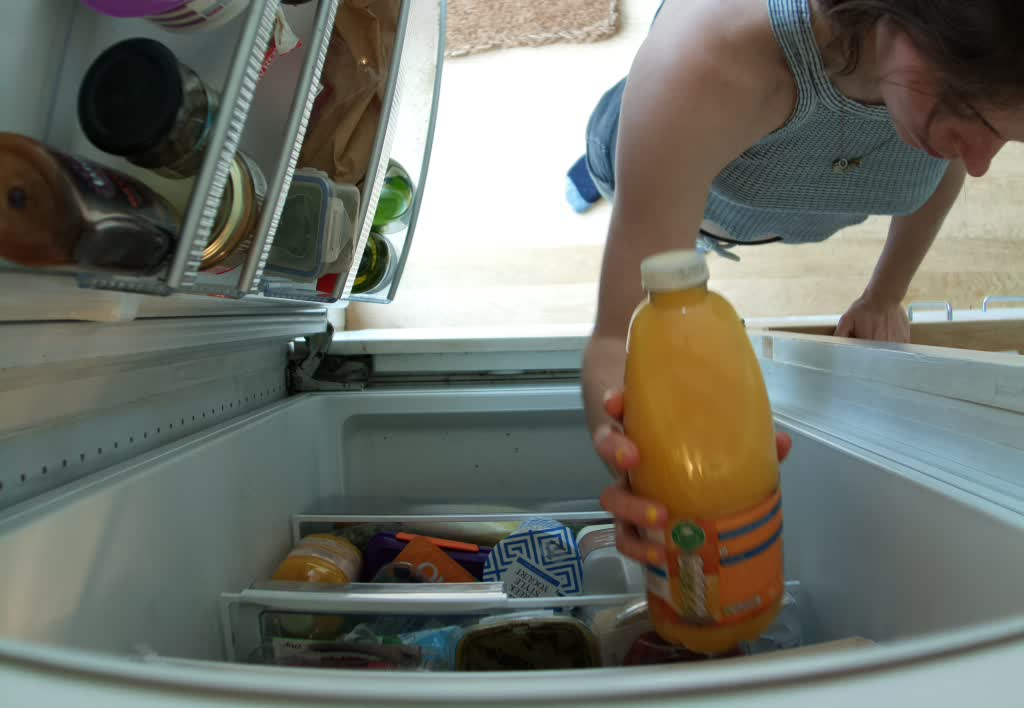juice: (622, 250, 798, 654)
